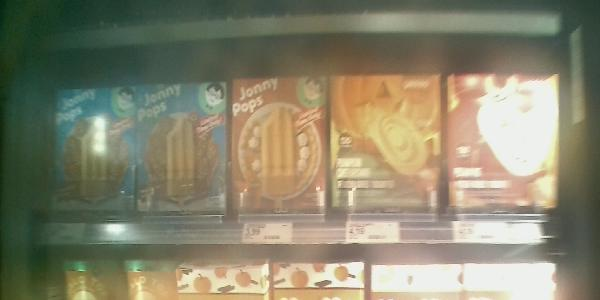icecream: (327, 72, 448, 222), (446, 68, 557, 211), (231, 76, 327, 219), (136, 78, 231, 222), (49, 86, 139, 213)
